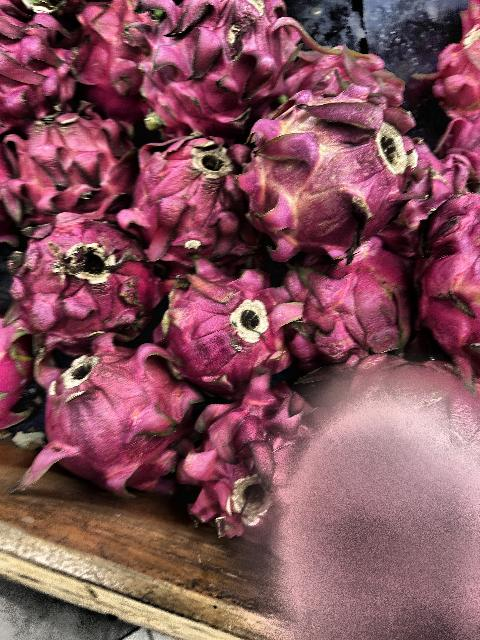buah-naga-belum-matang: (247, 87, 403, 249)
buah-naga-matang: (34, 342, 186, 494), (118, 124, 258, 280), (146, 0, 294, 121), (10, 212, 150, 338), (185, 380, 289, 536), (286, 237, 408, 366), (156, 260, 282, 378), (12, 102, 132, 220), (424, 188, 480, 360), (0, 0, 72, 116), (79, 0, 153, 104), (284, 36, 394, 104)
